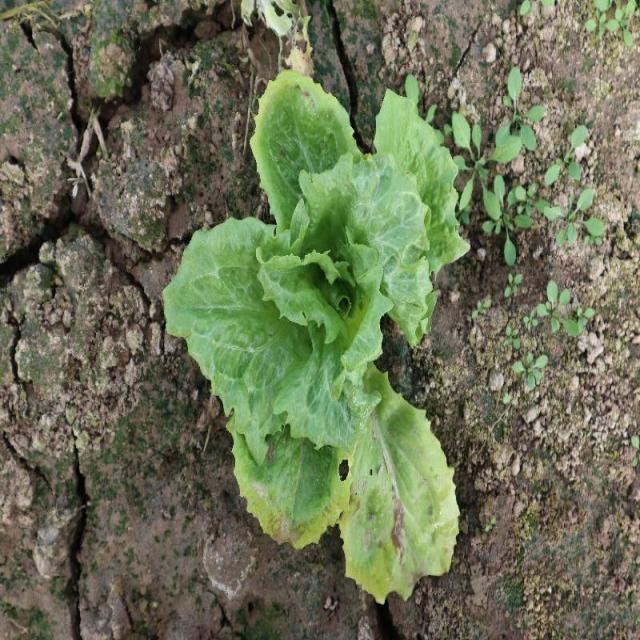crop: (166, 74, 471, 600)
